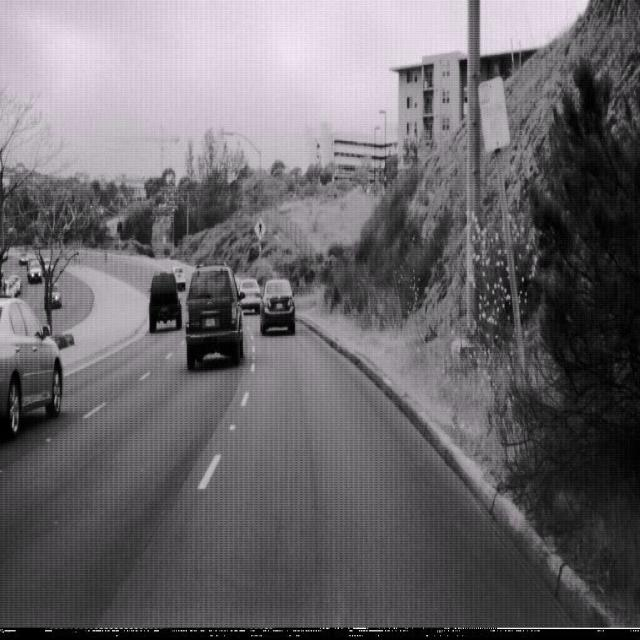pedestrianCrossing: (252, 214, 266, 242)
